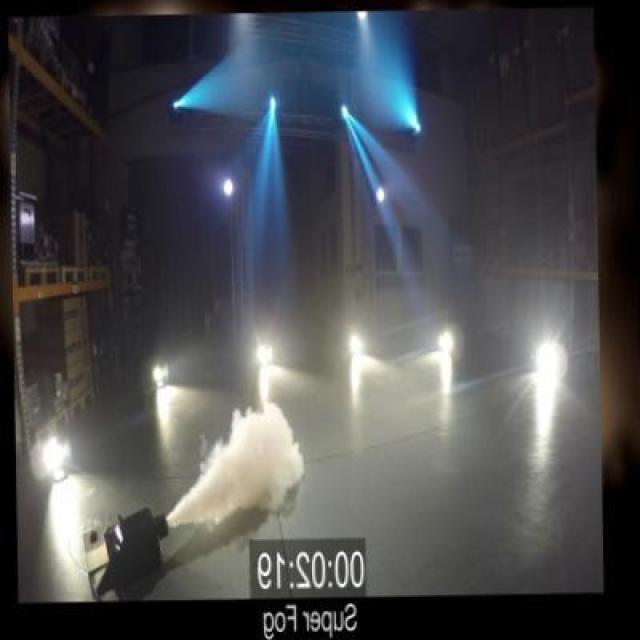fire: (184, 396, 307, 526)
